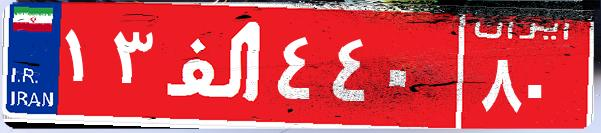0: (385, 28, 445, 110), (525, 38, 570, 115)
1: (57, 26, 110, 107)
3: (110, 28, 158, 105)
4: (273, 28, 330, 110), (330, 28, 385, 110)
8: (475, 38, 525, 113)
الف: (158, 15, 273, 115)
